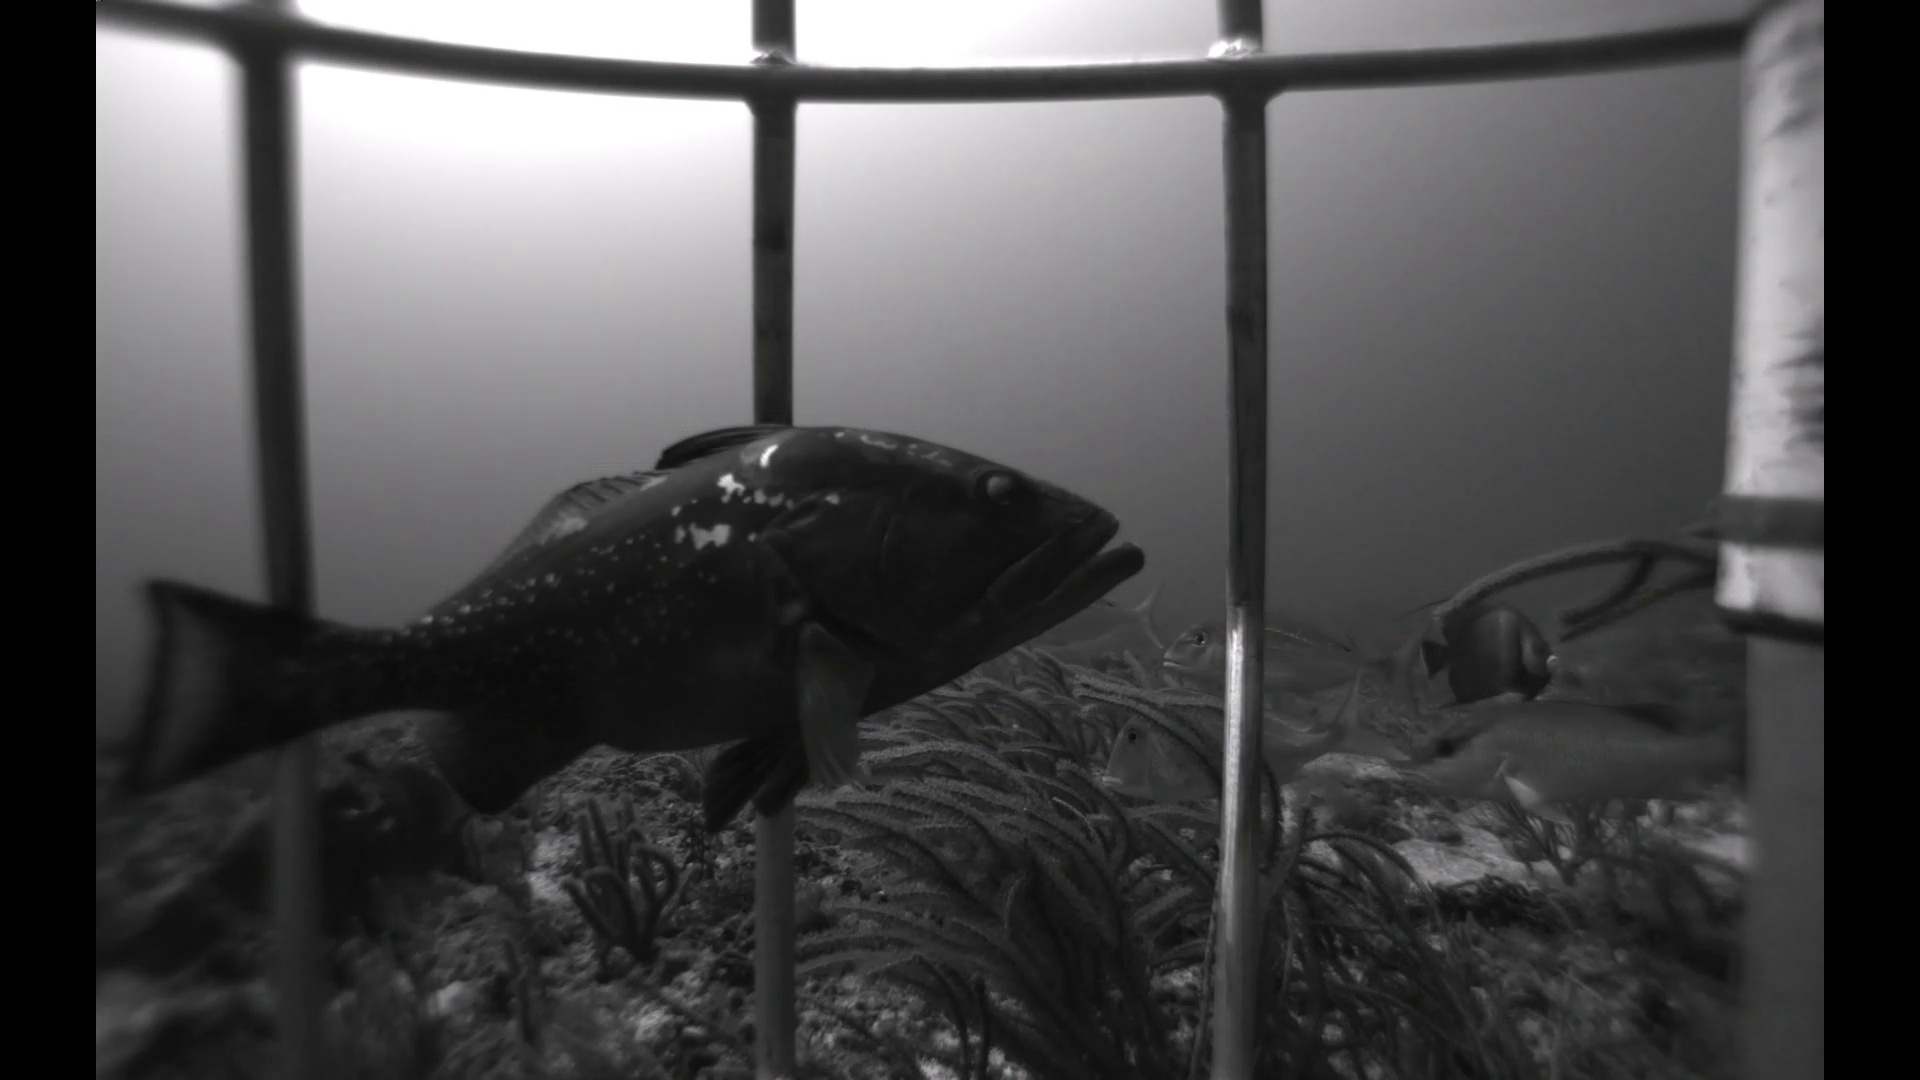CALAMUSNODOSUS-170210608: (1079, 654, 1406, 824)
EPINEPHELUSMORIO-170021211: (120, 400, 1143, 876), (189, 720, 527, 953)
LUTJANUSGRISEUS-170151109: (1411, 684, 1745, 825), (840, 736, 924, 799)
PAGRUSPAGRUS-170212302: (1155, 603, 1440, 711), (1035, 579, 1175, 669)
POMACANTHUSARCUATUS-170290201: (1410, 596, 1564, 712)
